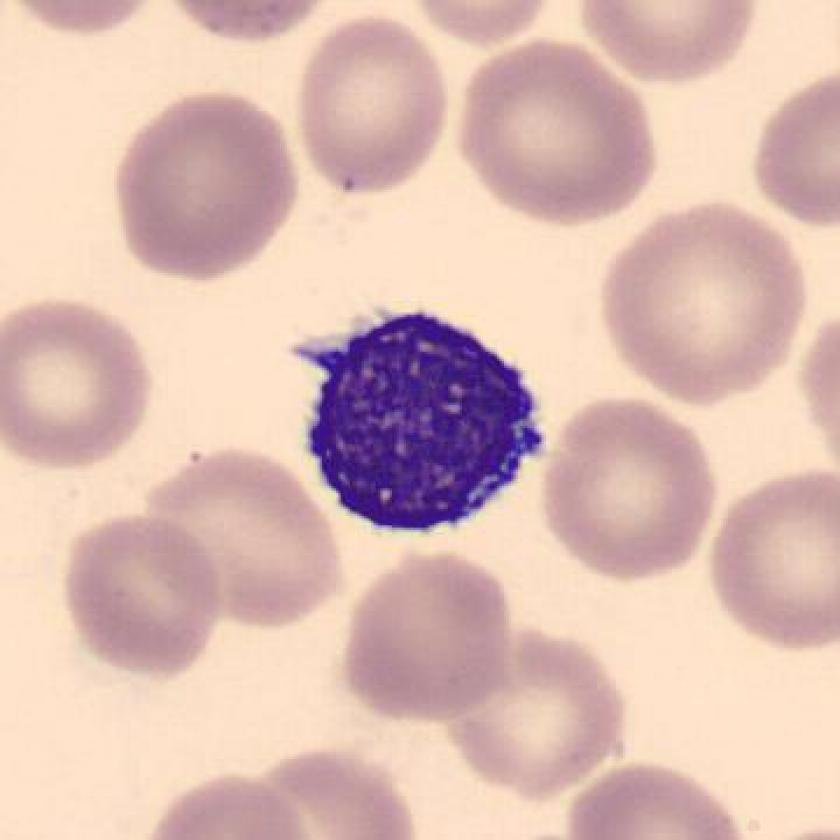lymphocyte: (279, 286, 559, 547)
